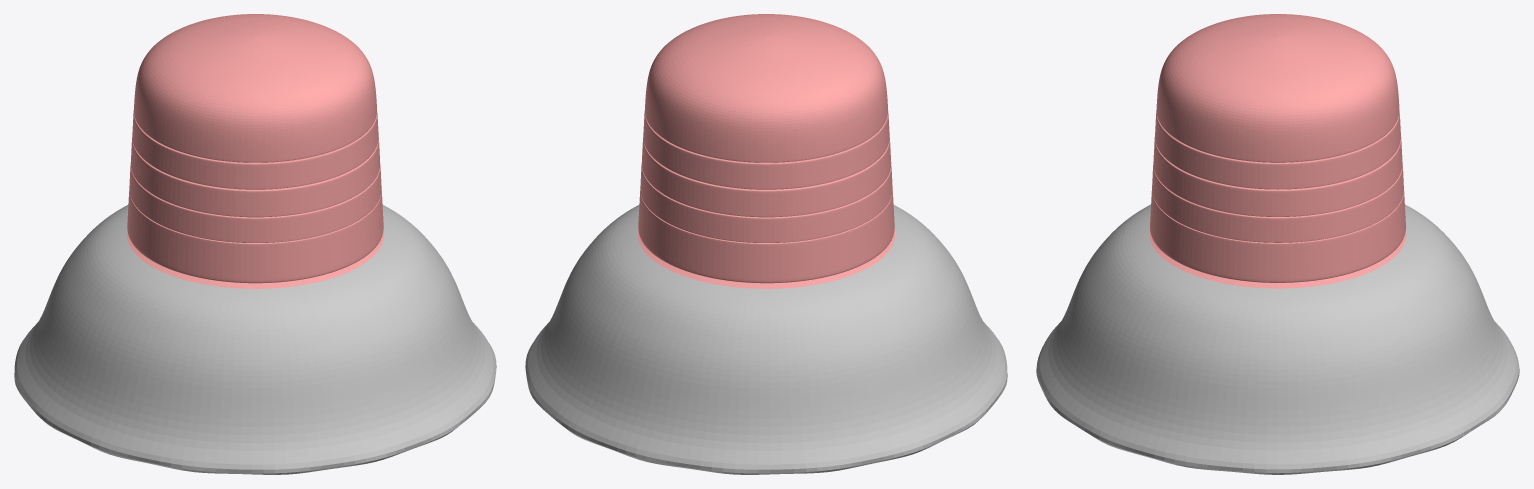
Rendered from shaker_lid.fbx.
3 renders of one model, left to right at view 1: azimuth 30°, elevation 25°; view 2: azimuth 150°, elevation 25°; view 3: azimuth 270°, elevation 25°, orthographic.
Visible parts, largest first — view 1: Lid; view 2: Lid; view 3: Lid.
Part boxes in pixels (bbox=[...]): Lid: bbox=[14, 14, 496, 474]; Lid: bbox=[525, 14, 1007, 474]; Lid: bbox=[1036, 14, 1519, 474].
Size of the model in its own units: 0.099 by 0.0785 by 0.099.
